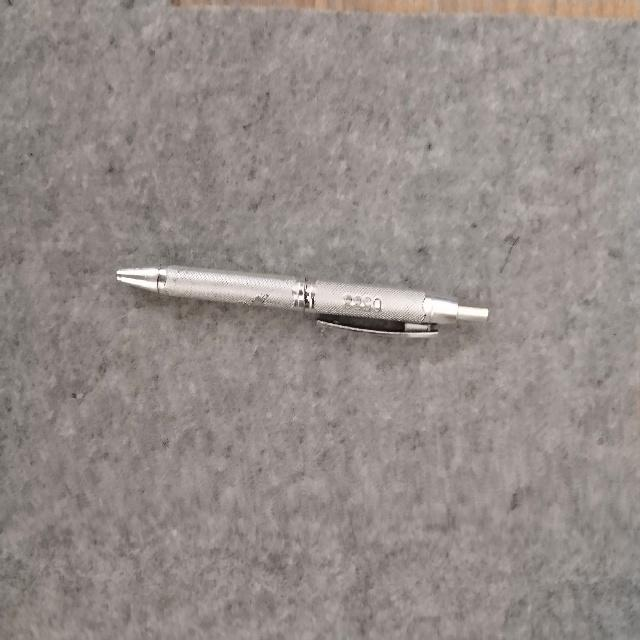signature pen: (117, 266, 487, 336)
